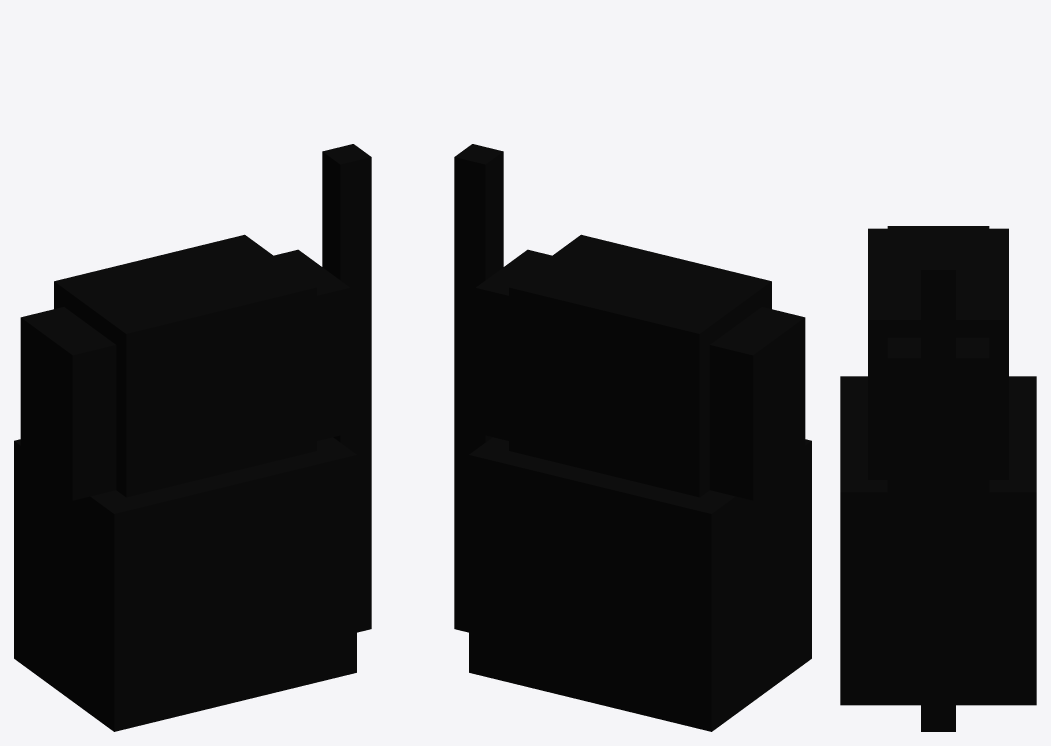
The model's file is boss_frost.gltf.
The picture shows the model from 3 angles, left to right: view 1: azimuth 30°, elevation 25°; view 2: azimuth 150°, elevation 25°; view 3: azimuth 270°, elevation 25°; orthographic projection. The views are drawn at different scales.
Parts seen in each view (by area): view 1: robe, torso, arm_l, staff, arm_r; view 2: robe, torso, arm_l, staff, arm_r; view 3: robe, torso, staff, arm_r.
Boxes of the visible parts, box(x1,y1,x2,y2) form: robe: box(14, 437, 356, 731); torso: box(54, 234, 316, 497); arm_l: box(20, 307, 116, 500); staff: box(322, 144, 371, 632); arm_r: box(274, 249, 350, 440); robe: box(469, 437, 811, 731); torso: box(509, 234, 771, 497); arm_l: box(709, 307, 805, 500); staff: box(454, 144, 503, 632); arm_r: box(475, 249, 551, 440); robe: box(840, 376, 1036, 705); torso: box(868, 228, 1008, 479); staff: box(921, 255, 955, 731); arm_r: box(887, 337, 989, 500).
Size of the model in its own units: 1.2 by 2.19 by 0.625.
5 materials, 5 textured.
